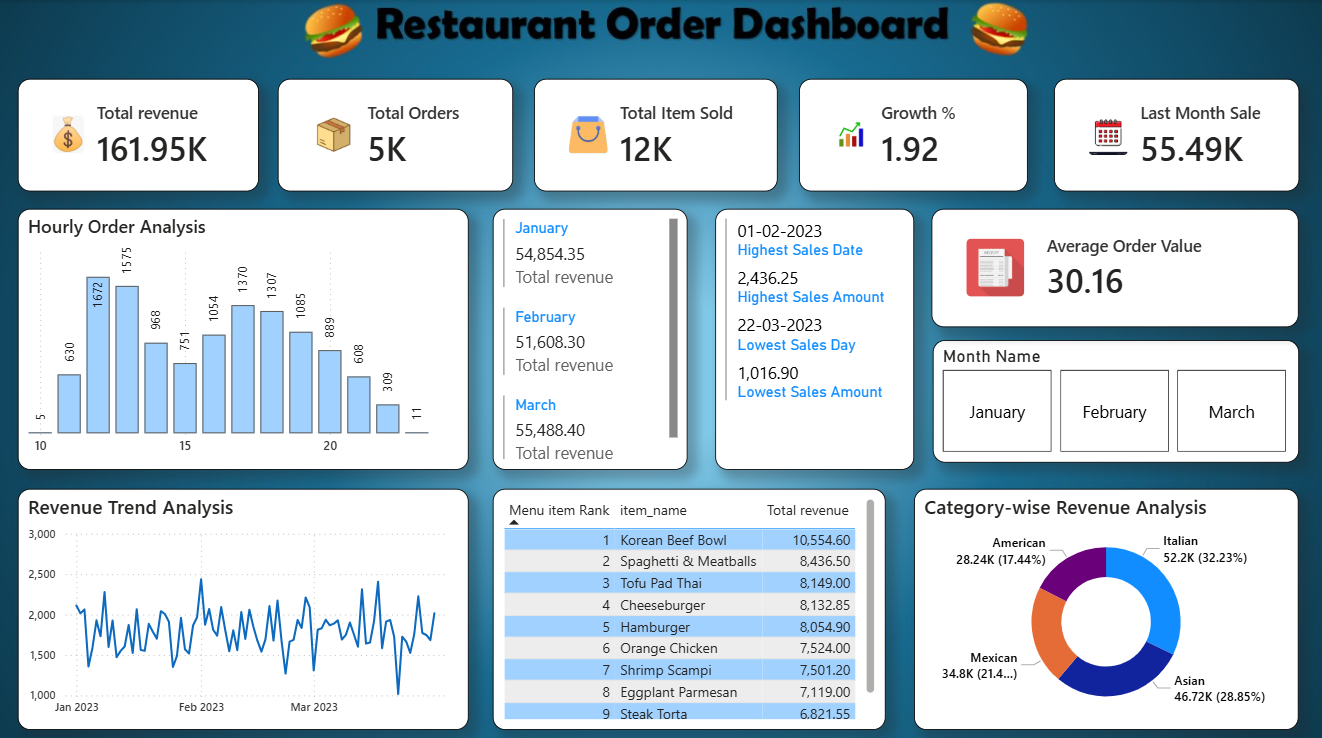

Layout of this report page (visuals, bound fields, positions):
{"tool":"powerbi","page":{"name":"Page 4","canvas":[1280,720],"ordinal":3},"visuals":[{"type":"cardVisual","fields":{"Data":["order (3).Total revenue"]},"box":[18.1,76,232.8,108.6],"z":0},{"type":"cardVisual","fields":{"Data":["order (3).Total Orders"]},"box":[269,76,226.8,108.6],"z":1000},{"type":"cardVisual","fields":{"Data":["order (3).Total Item Sold"]},"box":[516.4,76,235.3,108.6],"z":2000},{"type":"cardVisual","fields":{"Data":["order (3).Growth %"]},"box":[772.6,76,220.8,108.6],"z":3000},{"type":"cardVisual","fields":{"Data":["order (3).Current MTD"]},"box":[1018.2,76,236.5,108.6],"z":4000},{"type":"lineChart","title":"Revenue Trend Analysis","fields":{"Y":["order (3).Total revenue"],"Category":["Calendar.Date.Variation.Date Hierarchy.Year","Calendar.Date.Variation.Date Hierarchy.Quarter","Calendar.Date.Variation.Date Hierarchy.Month","Calendar.Date.Variation.Date Hierarchy.Day"]},"box":[18.1,471.7,435.5,232.8],"z":5000},{"type":"donutChart","title":"Category-wise Revenue Analysis","fields":{"Category":["order (3).category"],"Y":["order (3).Total revenue"]},"box":[883.1,471.7,371.6,232.8],"z":6000},{"type":"tableEx","fields":{"Values":["order (3).Menu item Rank","order (3).item_name","order (3).Total revenue"]},"box":[476.5,471.7,378.8,232.8],"z":7000},{"type":"clusteredColumnChart","title":"Hourly Order Analysis","fields":{"Category":["order (3).Hour"],"Y":["order (3).Order Count"]},"box":[18.1,201.5,435.5,252.1],"z":8000},{"type":"multiRowCard","fields":{"Values":["Calendar.Month Name","order (3).Total revenue"]},"box":[476.5,201.5,188.2,252.1],"z":9000},{"type":"multiRowCard","fields":{"Values":["order (3).Top Sales Day","order (3).Top Sales Amount","order (3).Lowest Sales Day","order (3).Lowest Sales Amount"]},"box":[691,201.5,191.8,252.1],"z":10000},{"type":"advancedSlicerVisual","fields":{"Values":["Calendar.Month Name"]},"box":[901.2,328.2,353.5,118.2],"z":11000},{"type":"cardVisual","fields":{"Data":["order (3).Average Order Value"]},"box":[900,201.5,354.7,114.6],"z":12000}]}

Visuals, with their boxes in screenshot pixels (x1, y1, x2, y2), scaled from the page's 1280x720 canvas onto the 1322x738 screenshot:
cardVisual - order (3).Total revenue: BBox(19, 78, 259, 189)
cardVisual - order (3).Total Orders: BBox(278, 78, 512, 189)
cardVisual - order (3).Total Item Sold: BBox(533, 78, 776, 189)
cardVisual - order (3).Growth %: BBox(798, 78, 1026, 189)
cardVisual - order (3).Current MTD: BBox(1052, 78, 1296, 189)
"Revenue Trend Analysis" lineChart: BBox(19, 483, 468, 722)
"Category-wise Revenue Analysis" donutChart: BBox(912, 483, 1296, 722)
tableEx - order (3).Menu item Rank x order (3).item_name: BBox(492, 483, 883, 722)
"Hourly Order Analysis" clusteredColumnChart: BBox(19, 207, 468, 465)
multiRowCard - Calendar.Month Name x order (3).Total revenue: BBox(492, 207, 687, 465)
multiRowCard - order (3).Top Sales Day x order (3).Top Sales Amount: BBox(714, 207, 912, 465)
advancedSlicerVisual - Calendar.Month Name: BBox(931, 336, 1296, 458)
cardVisual - order (3).Average Order Value: BBox(930, 207, 1296, 324)
